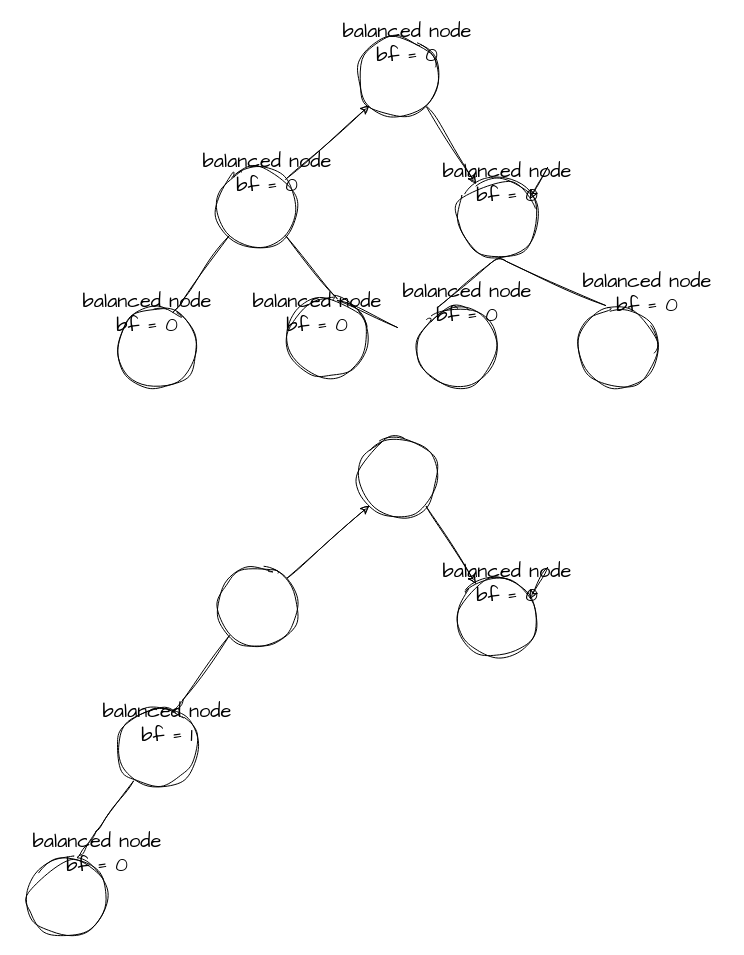
The diagram is 744 pixels wide and 955 high, and some of its shapes have lost their labels. The centre of each missing label's shape, as x and y in pixels:
im balanced node bf = 2: point (257, 607)
imbalanced node bf = 2: point (397, 477)
